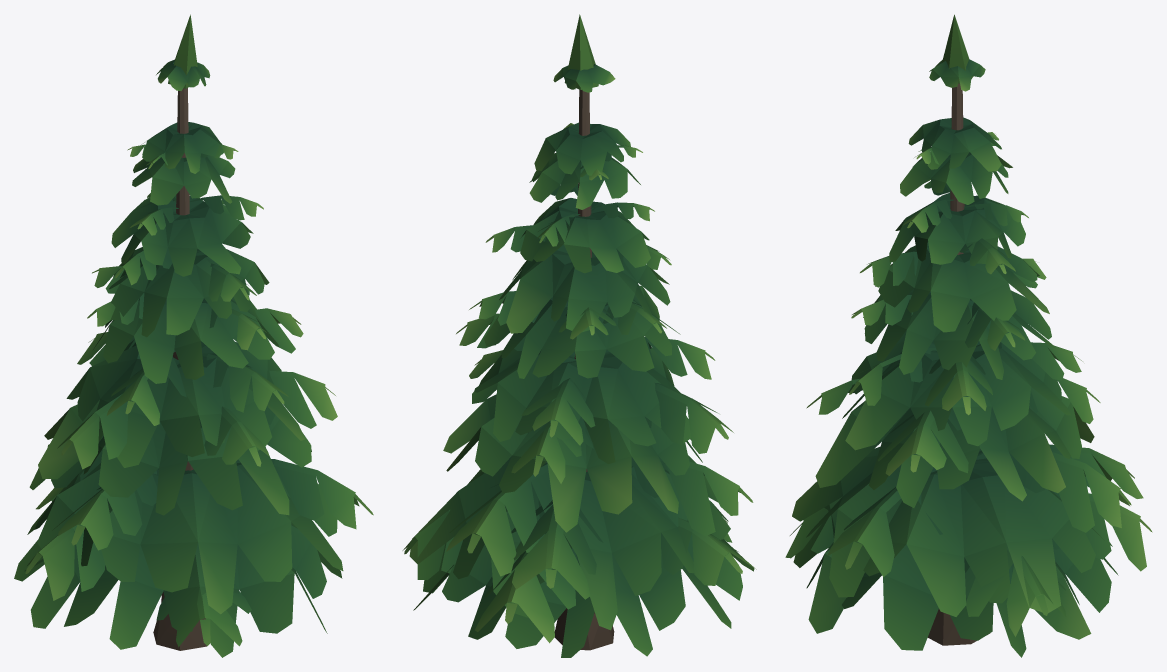
The model's file is spruce_S_normal_std_s42.glb.
3 renders of one model, left to right at view 1: azimuth 30°, elevation 25°; view 2: azimuth 150°, elevation 25°; view 3: azimuth 270°, elevation 25°, orthographic.
Parts seen in each view (by area): view 1: Tree; view 2: Tree; view 3: Tree.
Boxes of the visible parts, box(x1,y1,x2,y2) form: Tree: box(14, 14, 373, 657); Tree: box(402, 14, 756, 657); Tree: box(785, 14, 1152, 657).
Size of what is drawn, in the model's own units: 2.08 by 3.97 by 2.13.
